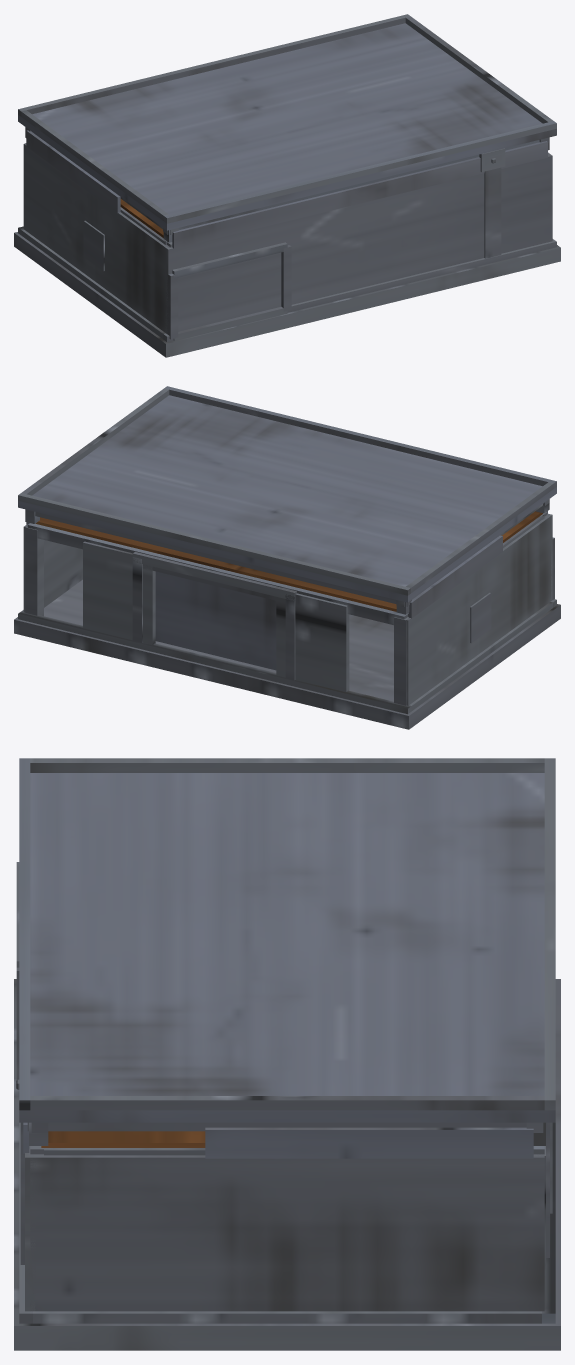
The picture shows the model from 3 angles, top to bottom: view 1: azimuth 30°, elevation 25°; view 2: azimuth 150°, elevation 25°; view 3: azimuth 270°, elevation 25°; orthographic projection. The views are drawn at different scales.
Visible parts, largest first — view 1: SM_HDBF_BoxFarm_Top_LOD2; view 2: SM_HDBF_BoxFarm_Top_LOD2; view 3: SM_HDBF_BoxFarm_Top_LOD2.
Boxes of the visible parts, x1,y1,x2,y2 form: SM_HDBF_BoxFarm_Top_LOD2: (14, 14, 560, 357); SM_HDBF_BoxFarm_Top_LOD2: (14, 386, 560, 729); SM_HDBF_BoxFarm_Top_LOD2: (14, 758, 560, 1350).
Size of the model in its own units: 3 by 1 by 2.
4 materials, 4 textured.
